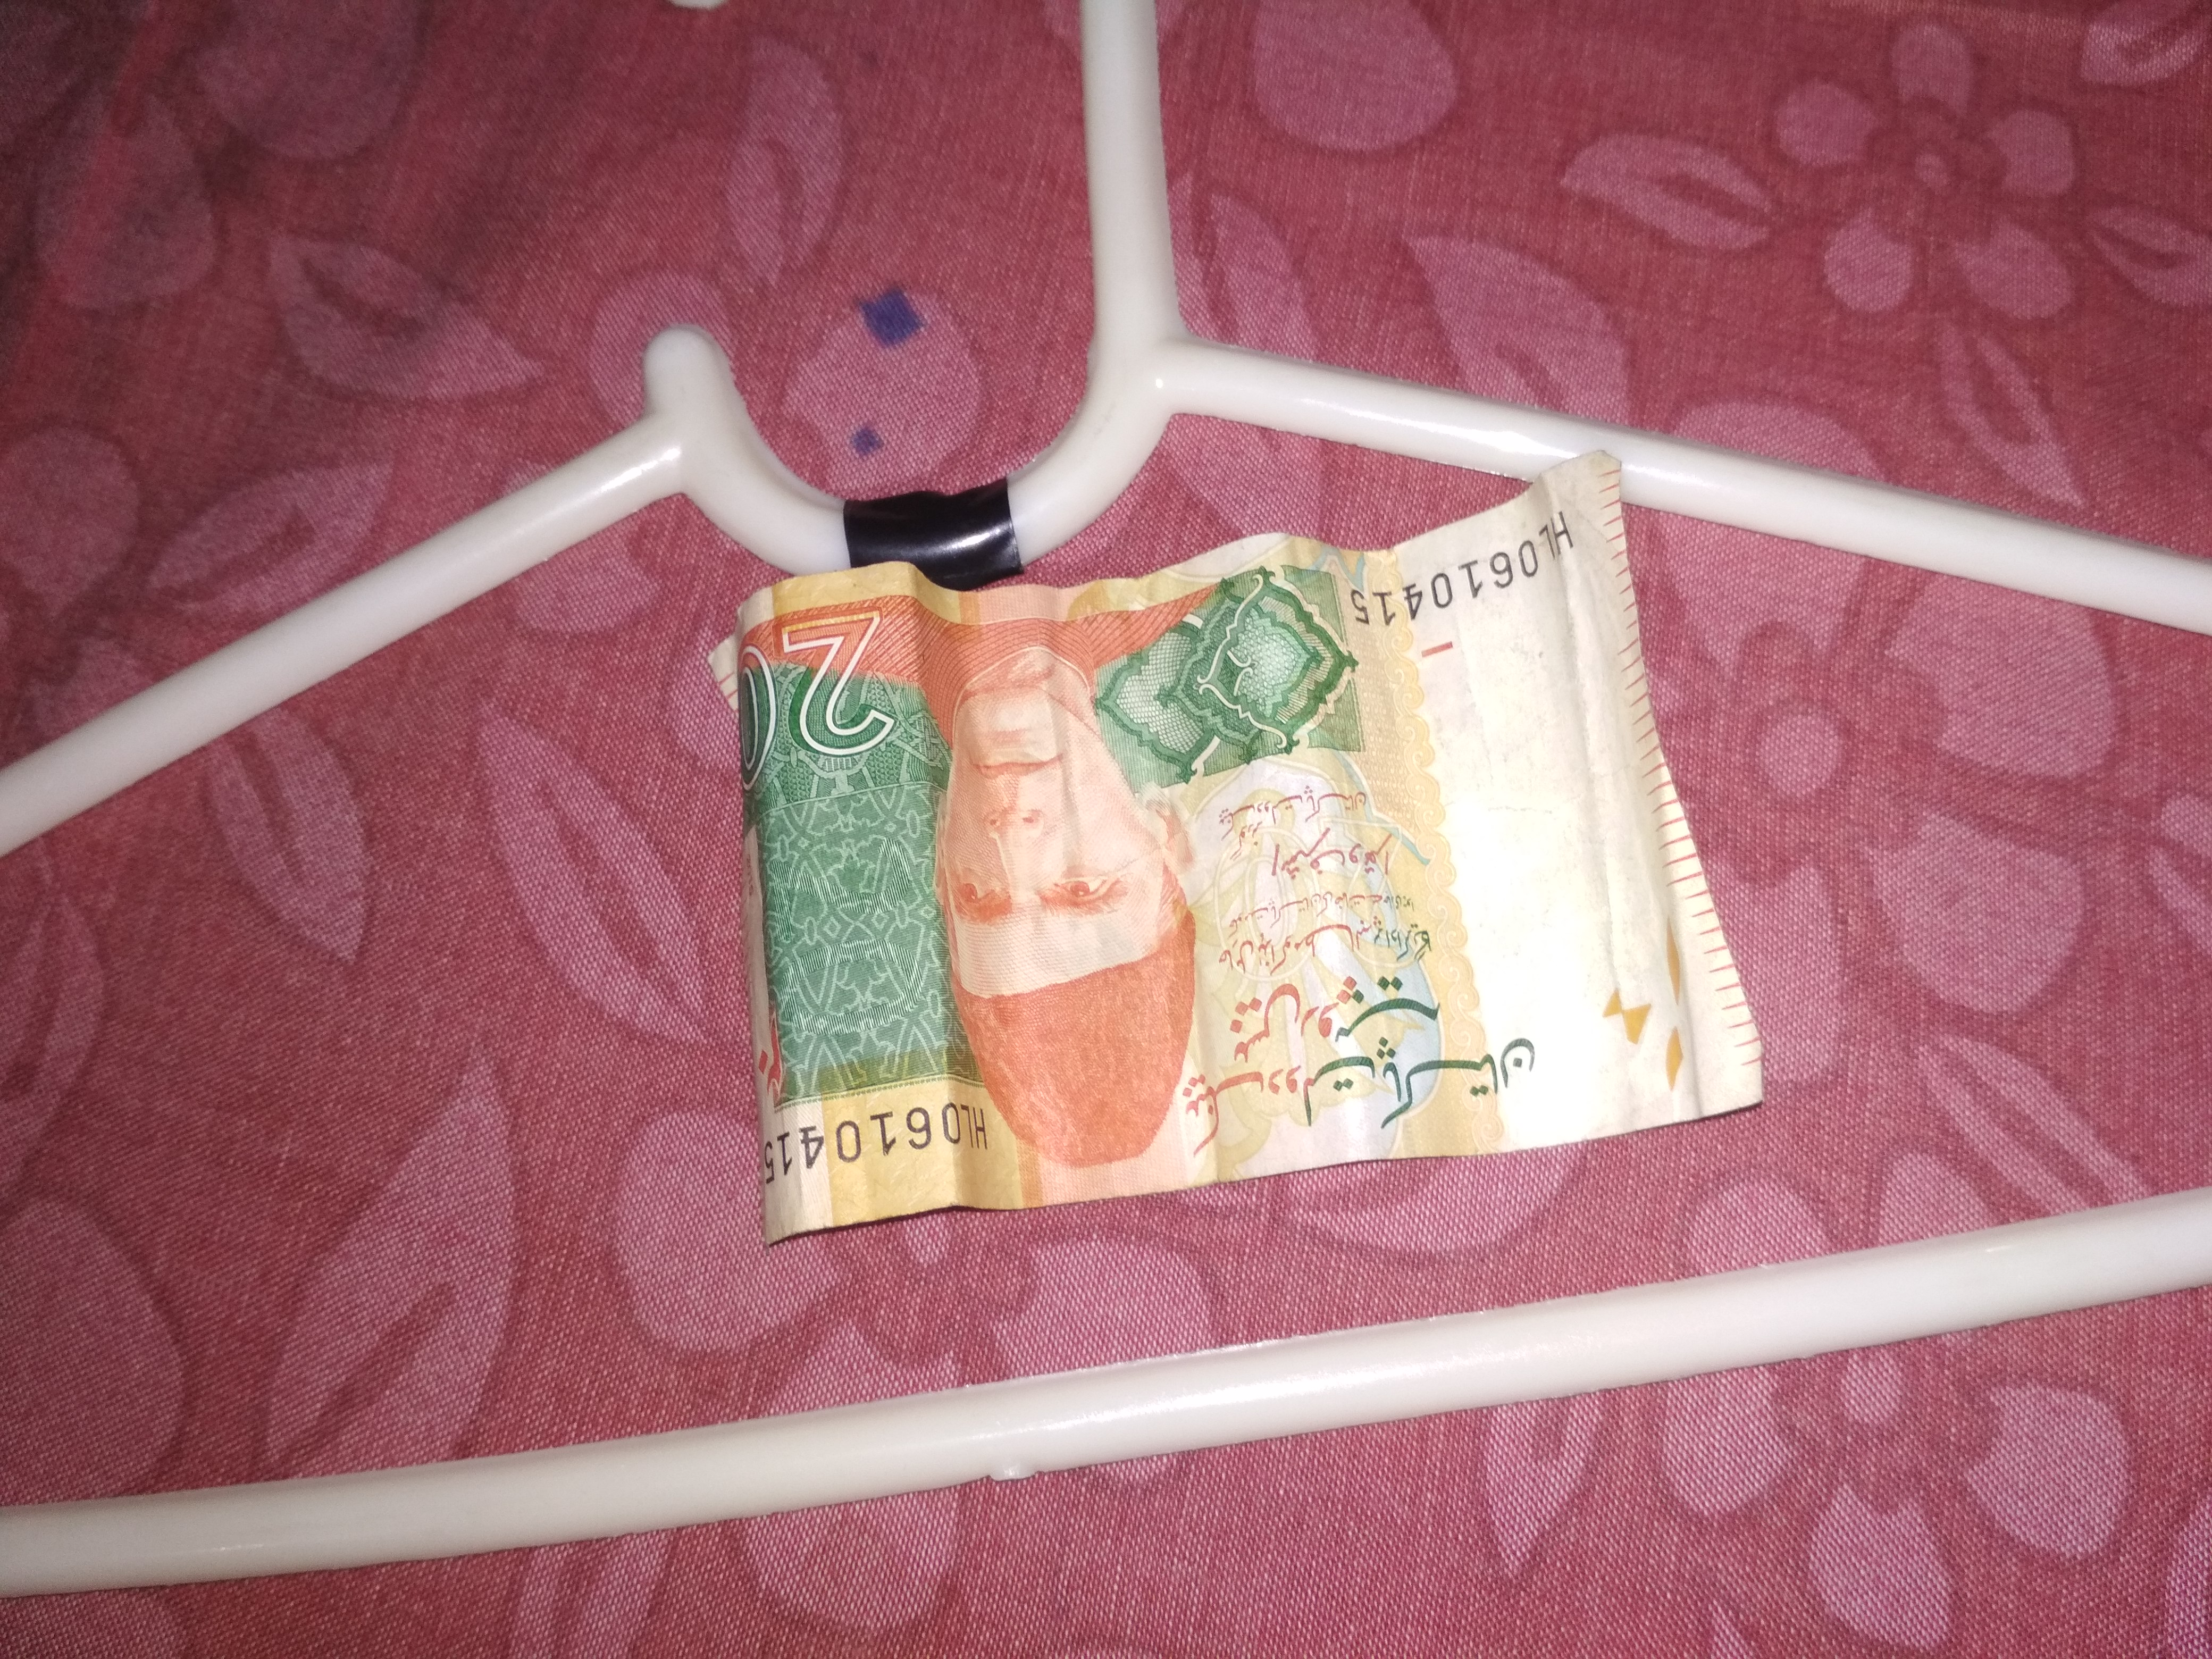20 rupee: (721, 448, 1777, 1316)
